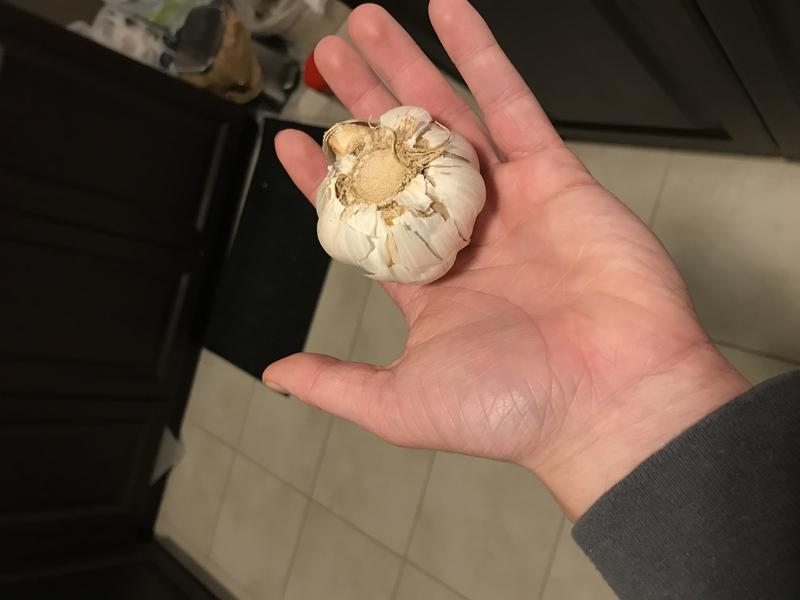garlic: (303, 102, 497, 293)
